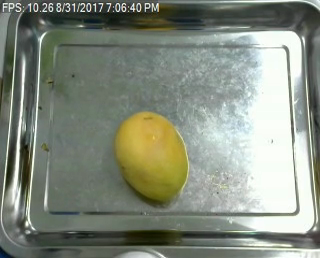Mango: (116, 111, 189, 199)
